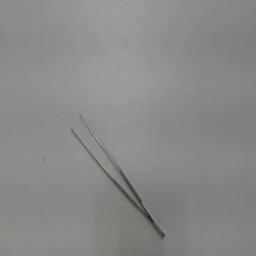Gillies Toothed Dissector: (67, 107, 169, 241)
